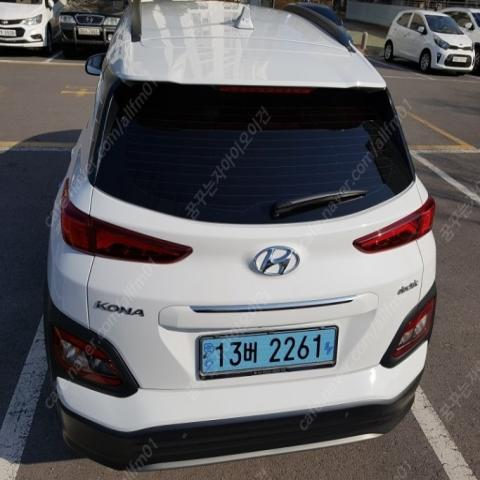LP: (192, 314, 340, 387)
